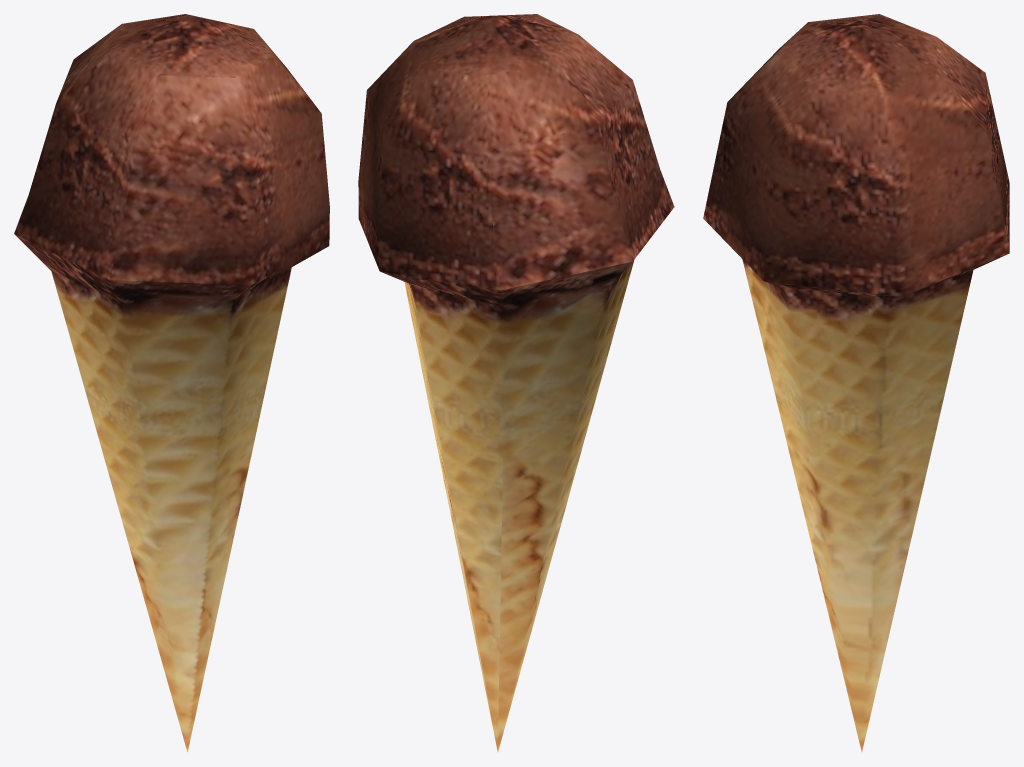
File: Ice_cream.dae
3 views of the same model, side by side, from view 1: azimuth 30°, elevation 25°; view 2: azimuth 150°, elevation 25°; view 3: azimuth 270°, elevation 25° (orthographic).
Parts seen in each view (by area): view 1: Ice_cream; view 2: Ice_cream; view 3: Ice_cream.
Boxes of the visible parts, x1,y1,x2,y2 form: Ice_cream: [14, 14, 329, 752]; Ice_cream: [358, 14, 674, 752]; Ice_cream: [703, 14, 1009, 752].
Bounding box in the file's own units: 0.0978 × 0.0952 × 0.2496.
Materials: 1 (1 with a texture image).
